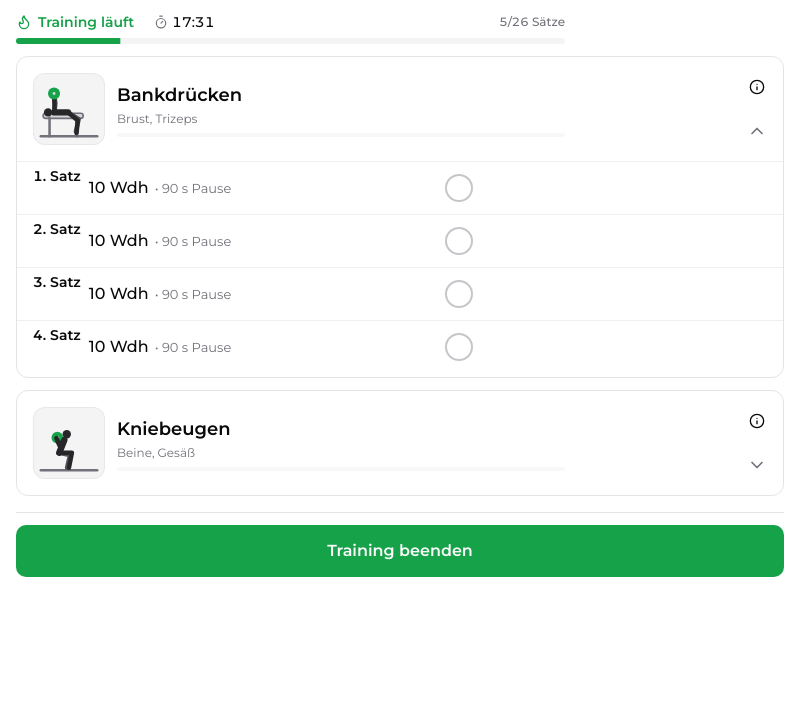
Test: ActiveWorkoutSession exercise expansion › closes the open exercise when another one is opened
Click the button named "Kniebeugen 0/22 Sätze" at (757, 465), box [735, 443, 779, 487]
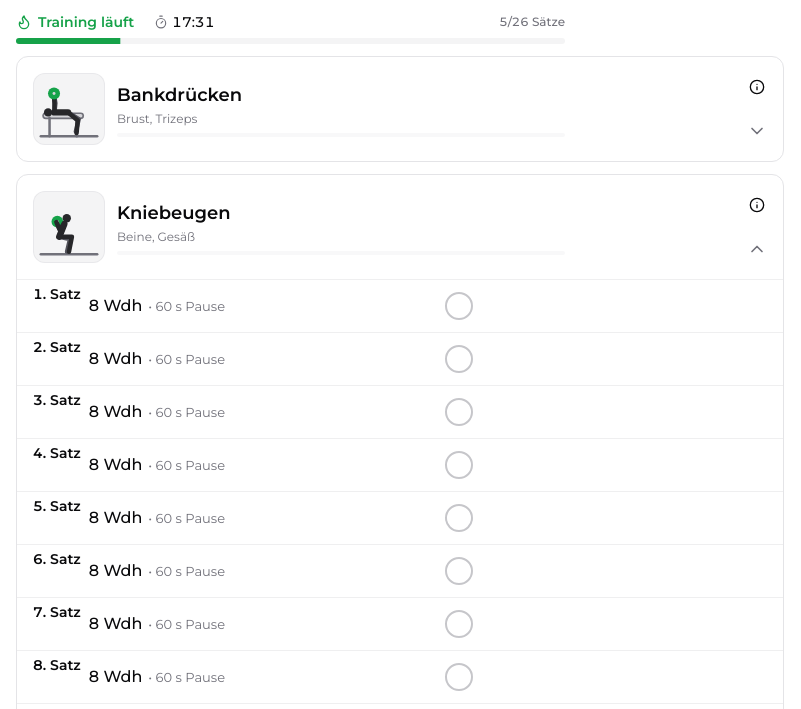
Now the number of checkboxes is 22
